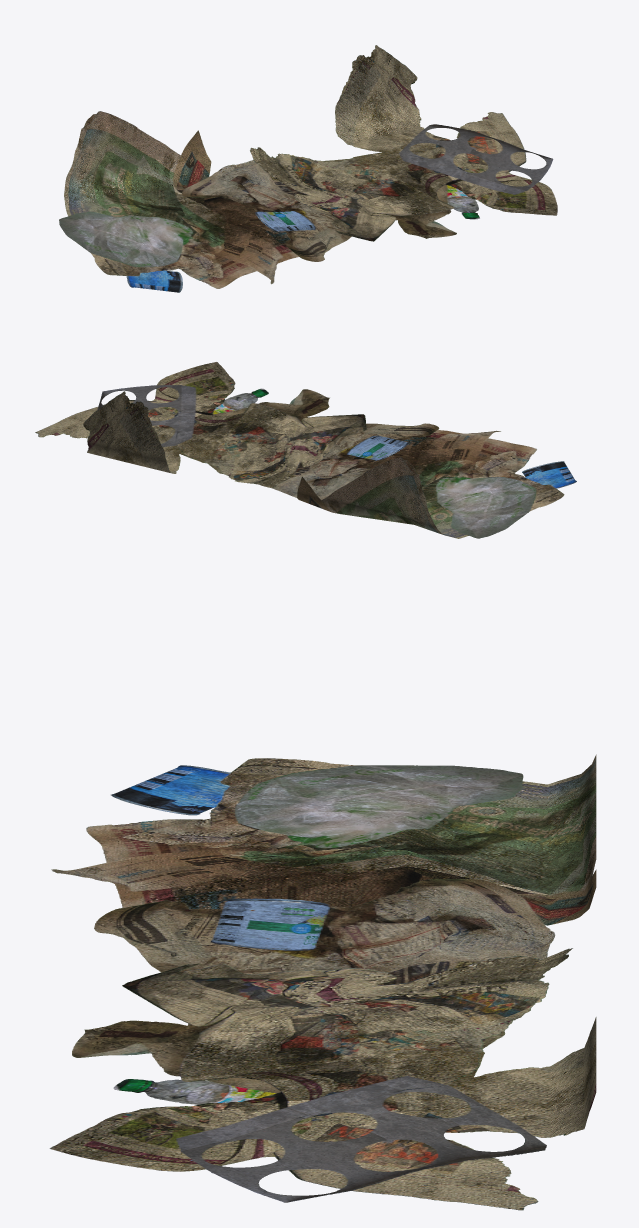
File: 3D_Decal_11.fbx
The picture shows the model from 3 angles, top to bottom: view 1: azimuth 30°, elevation 25°; view 2: azimuth 150°, elevation 25°; view 3: azimuth 270°, elevation 25°; orthographic projection. The views are drawn at different scales.
Parts seen in each view (by area): view 1: THREED_Decal; view 2: THREED_Decal; view 3: THREED_Decal.
Boxes of the visible parts, x1,y1,x2,y2 form: THREED_Decal: (59, 45, 557, 292); THREED_Decal: (35, 362, 576, 538); THREED_Decal: (49, 754, 596, 1210).
Size of the model in its own units: 2.42 by 0.4172 by 1.23.
